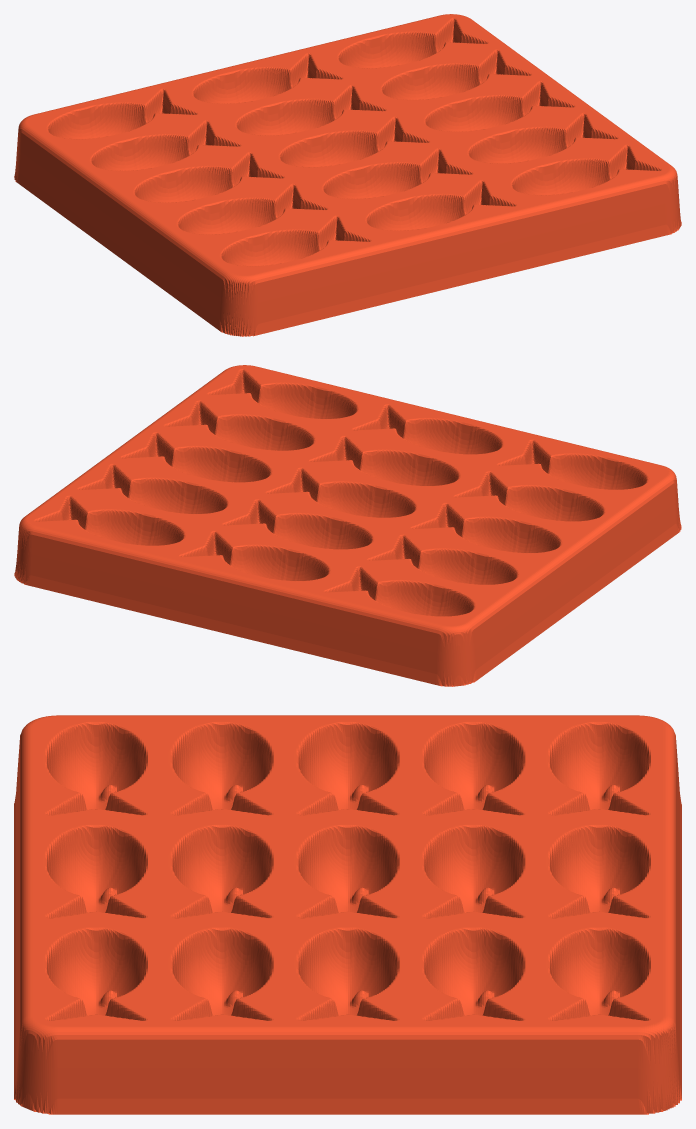
File: mold.glb
The picture shows the model from 3 angles, top to bottom: view 1: azimuth 30°, elevation 25°; view 2: azimuth 150°, elevation 25°; view 3: azimuth 270°, elevation 25°; orthographic projection. The views are drawn at different scales.
Visible parts, largest first — view 1: geometry_0; view 2: geometry_0; view 3: geometry_0.
Boxes of the visible parts, <box> form: geometry_0: <box>14,14,681,336</box>; geometry_0: <box>14,365,681,686</box>; geometry_0: <box>14,715,681,1114</box>.
Bounding box in the file's own units: 0.1602 × 0.0185 × 0.1391.
